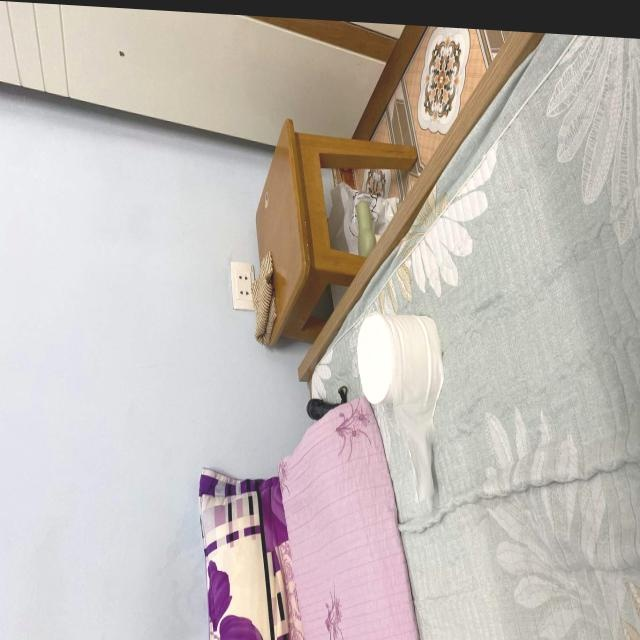outlet: (229, 260, 255, 311)
